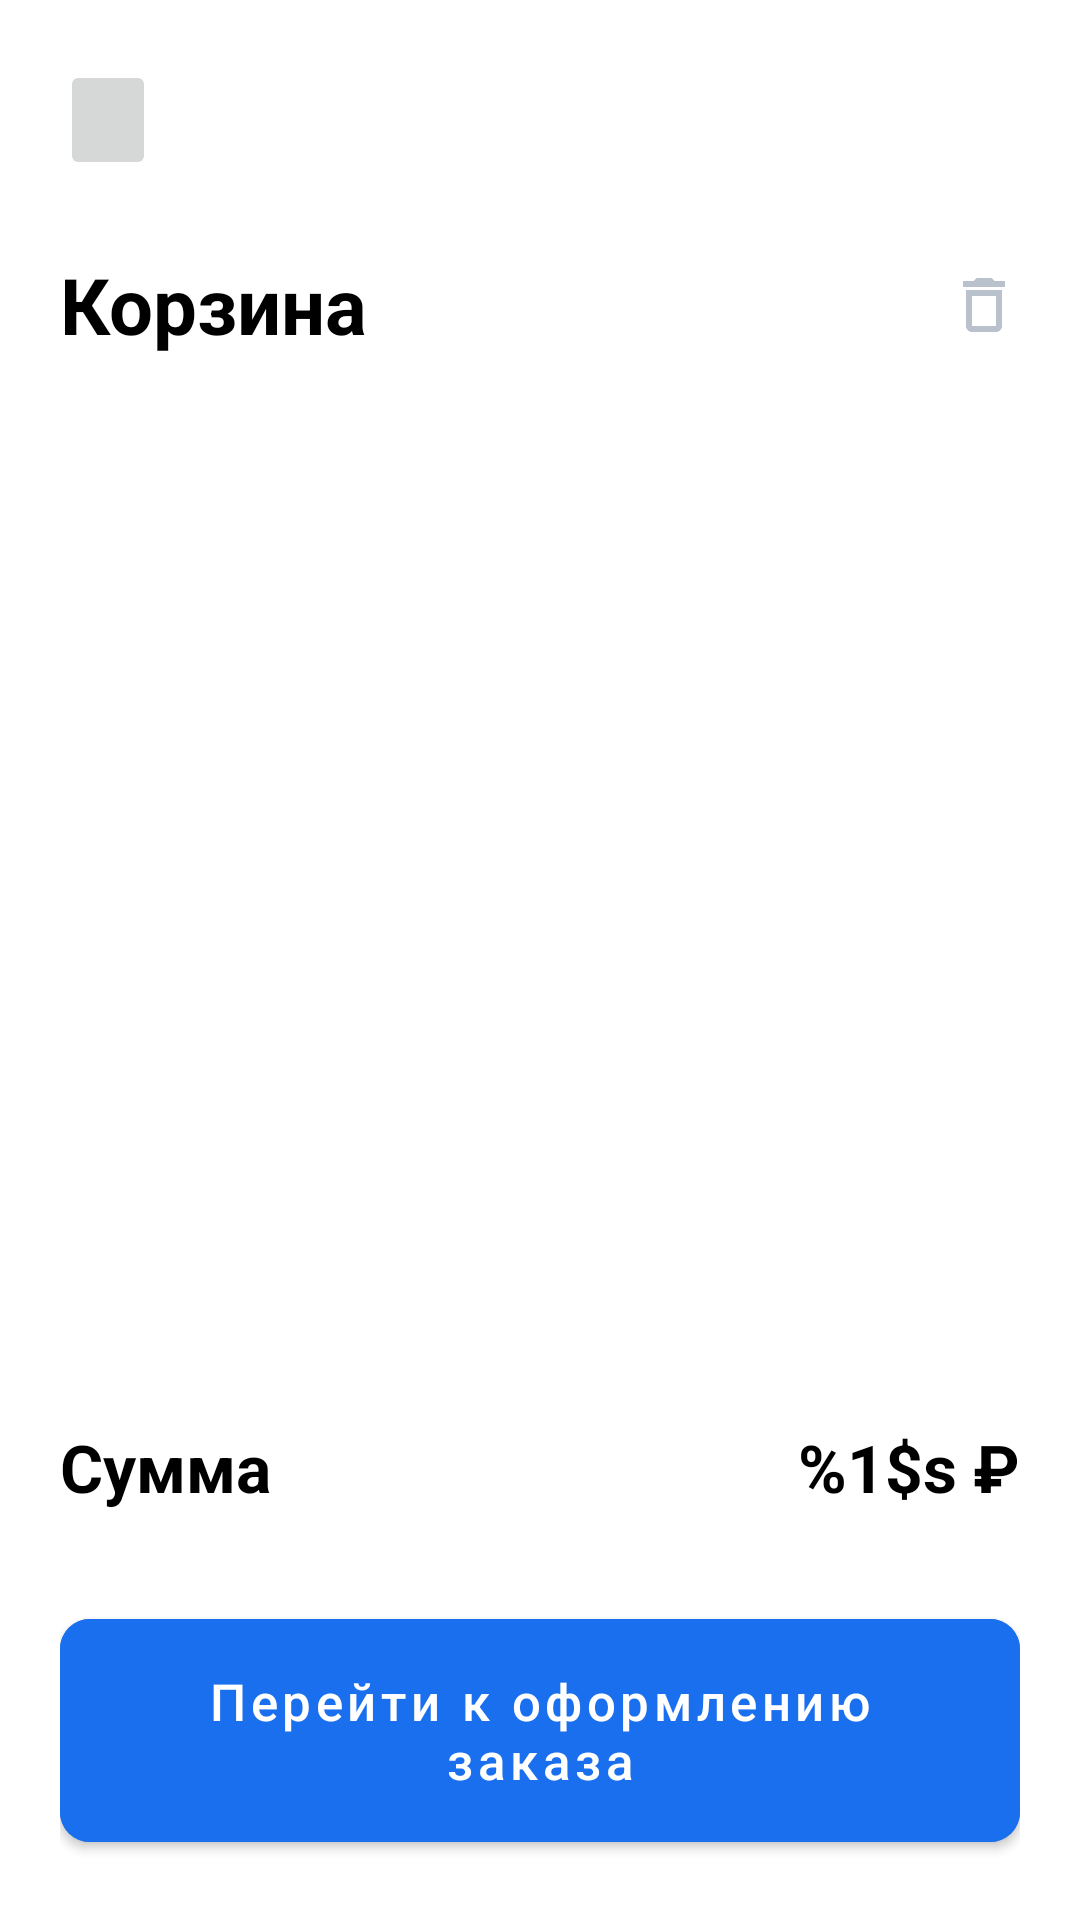

Screen size 1080px x 1920px. Icon name, then its center in pixels as (x,y):
delete: (984,305)
